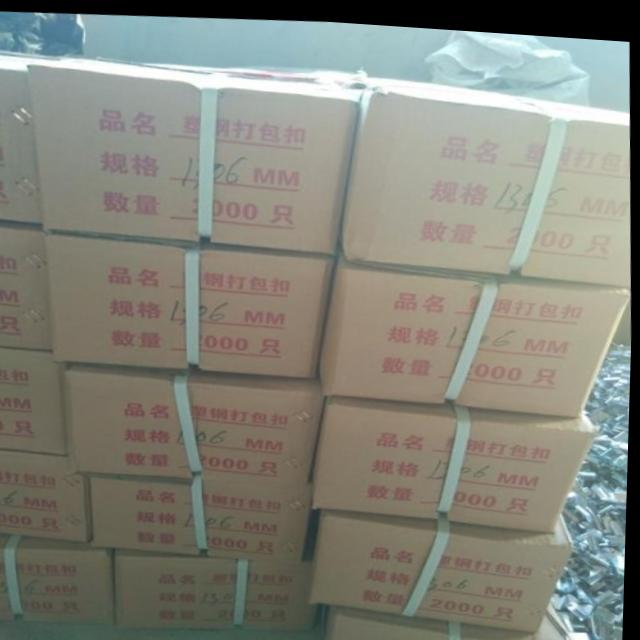box: (28, 57, 364, 252), (339, 70, 629, 278), (320, 253, 631, 409), (44, 228, 333, 373), (317, 386, 596, 525), (312, 505, 578, 625), (67, 363, 328, 482), (92, 474, 320, 557), (119, 546, 318, 626), (0, 52, 81, 225), (0, 533, 118, 623), (0, 450, 97, 543), (330, 604, 568, 640), (0, 222, 58, 353), (0, 349, 71, 453)
